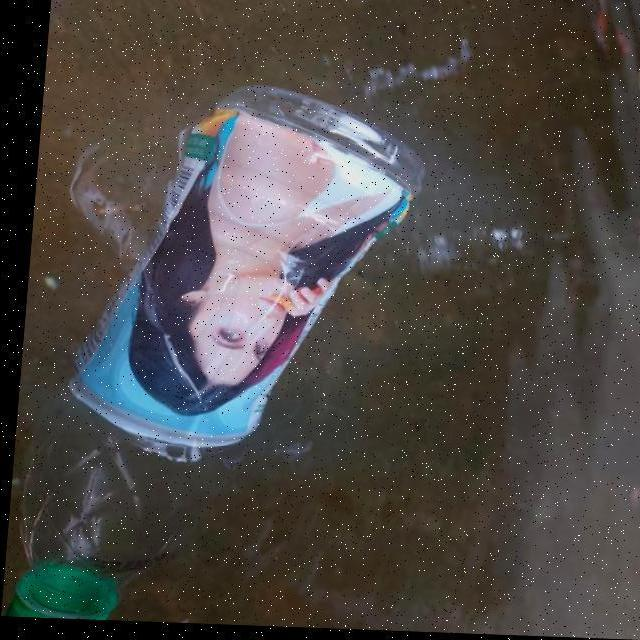Waste: (57, 111, 471, 473)
